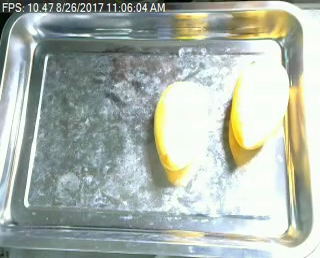Mango: (230, 54, 294, 157), (153, 83, 212, 167)
